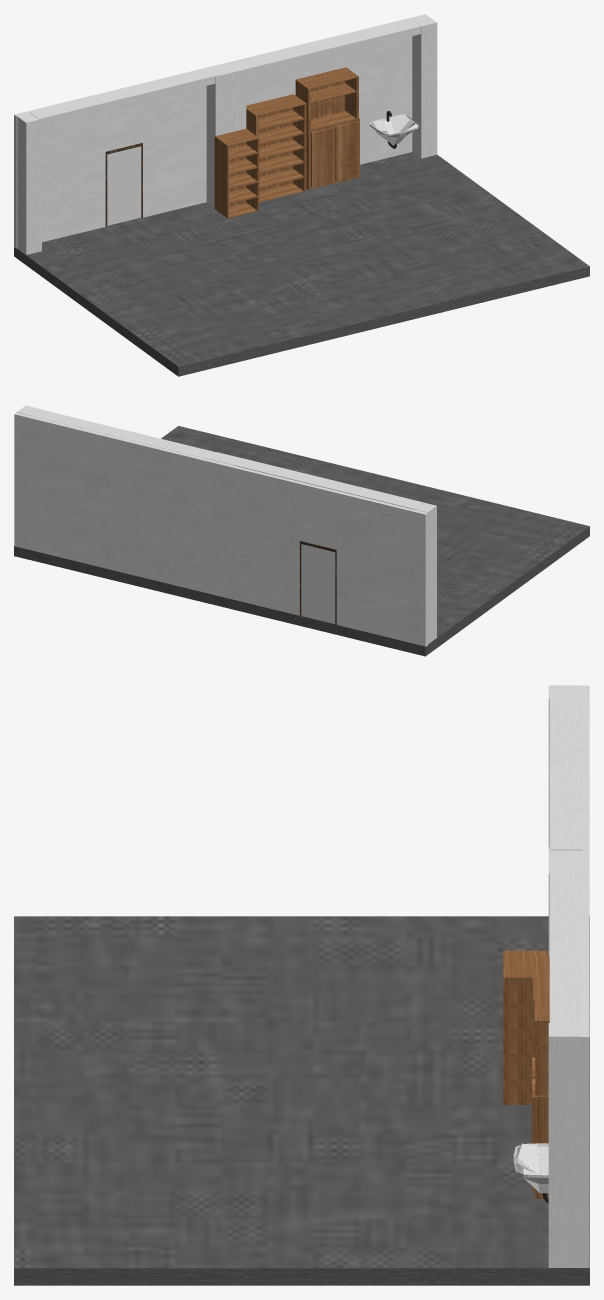
File: lab.gltf
The picture shows the model from 3 angles, top to bottom: view 1: azimuth 30°, elevation 25°; view 2: azimuth 150°, elevation 25°; view 3: azimuth 270°, elevation 25°; orthographic projection. The views are drawn at different scales.
Parts seen in each view (by area): view 1: Wall, Shelf-big, Shelf-middle, Shelf-small, Door, Sink, Doorframes; view 2: Wall, Door, Doorframes; view 3: Wall, Shelf-small, Shelf-big, Sink.
Part boxes in pixels (x1,y1,x2,y2): Wall: [14, 14, 589, 376]; Shelf-big: [295, 67, 359, 189]; Shelf-middle: [246, 94, 306, 202]; Shelf-small: [214, 128, 259, 218]; Door: [107, 146, 141, 225]; Sink: [369, 114, 419, 144]; Doorframes: [105, 143, 142, 226]; Wall: [14, 405, 589, 656]; Door: [301, 544, 335, 623]; Doorframes: [299, 541, 336, 624]; Wall: [14, 685, 589, 1285]; Shelf-small: [503, 950, 548, 1104]; Shelf-big: [532, 977, 549, 1198]; Sink: [513, 1143, 548, 1193].
Size of the model in its own units: 26.01 by 8.6 by 18.
